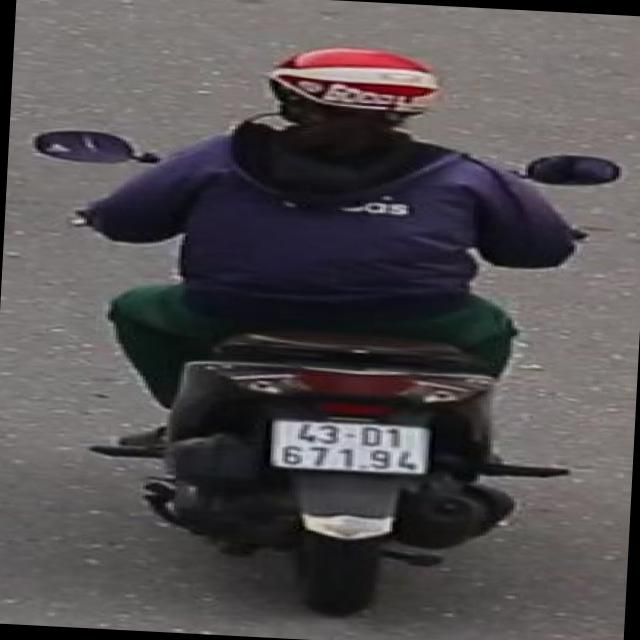LP: (264, 412, 436, 478)
helmet: (255, 36, 450, 148)
